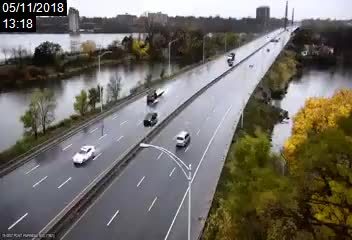personal_car: (72, 145, 96, 165), (175, 130, 191, 149), (143, 112, 158, 127)
truck: (145, 87, 164, 108)
